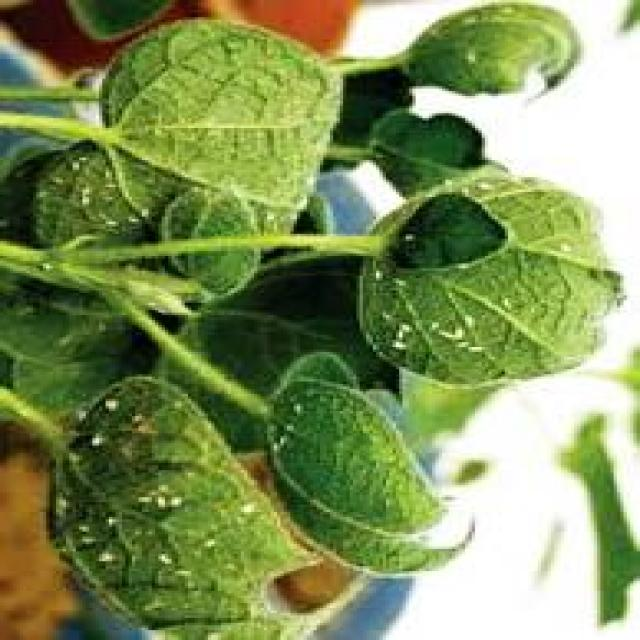Leaf Curl Virus: (109, 32, 496, 520)
